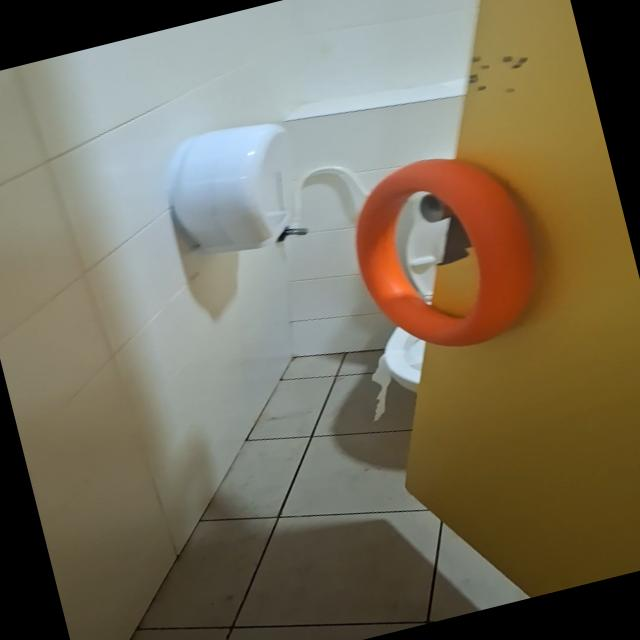note: (335, 137, 553, 368)
